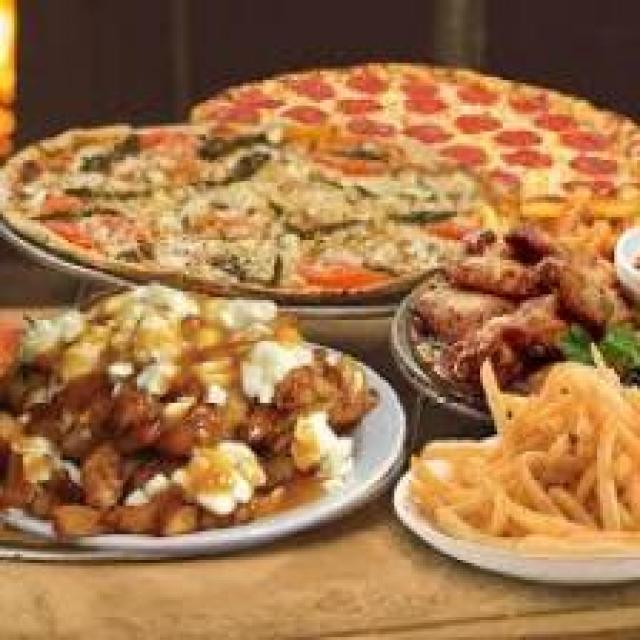French Fries: (402, 356, 638, 570), (408, 219, 632, 384)
